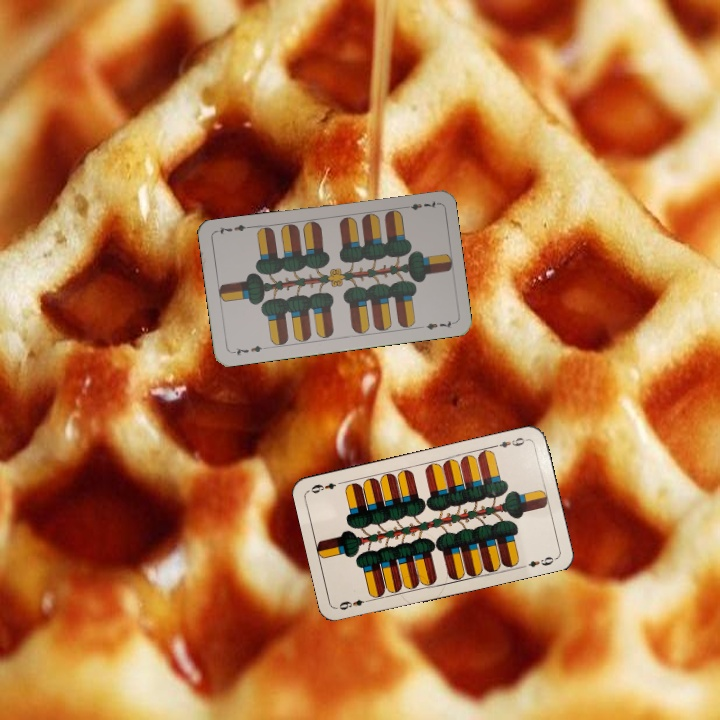E7: (228, 342, 269, 358), (399, 197, 440, 213)
E9: (490, 433, 530, 450), (335, 595, 374, 612)
